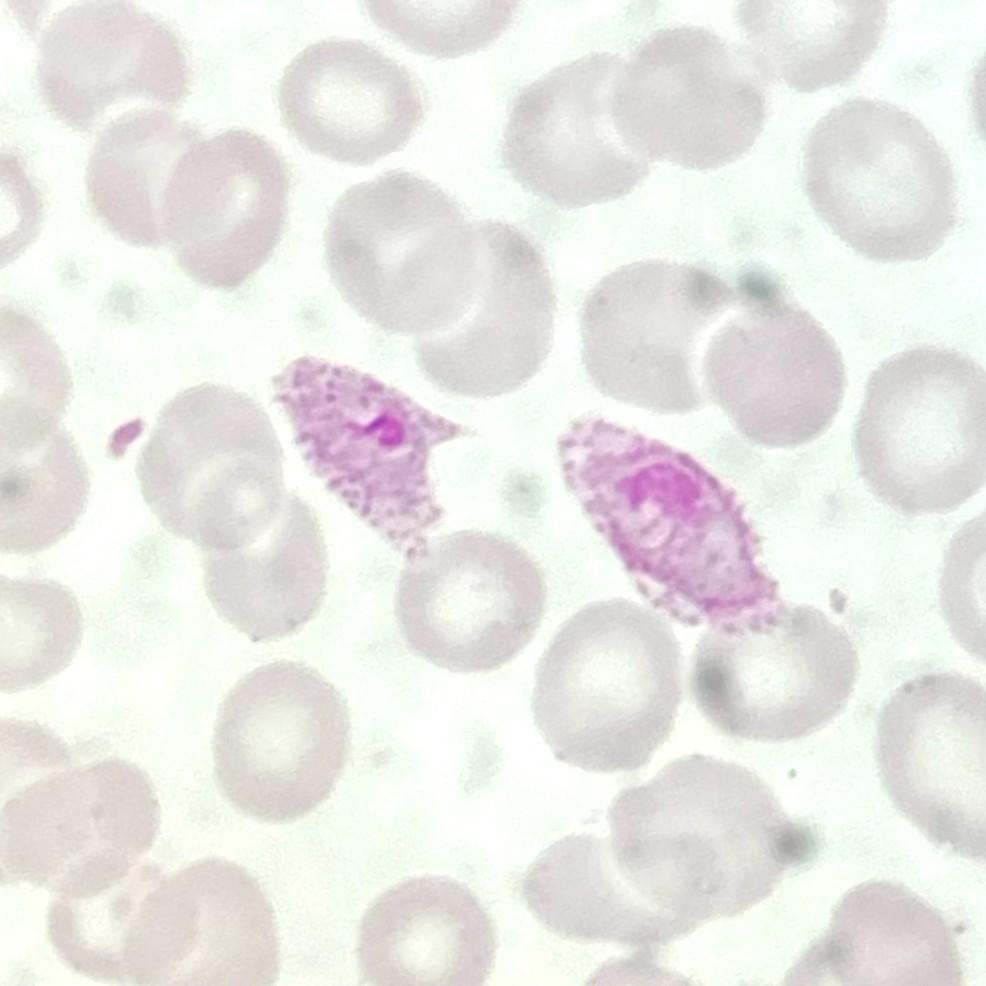Infected: (554, 414, 788, 637), (266, 354, 468, 557)
Uninfected: (584, 254, 756, 416), (402, 222, 558, 398), (606, 764, 788, 913), (532, 598, 686, 769), (322, 176, 481, 339), (134, 382, 287, 550), (808, 94, 956, 264), (688, 608, 867, 744), (698, 292, 849, 448), (524, 830, 705, 958), (850, 348, 986, 517), (210, 660, 350, 824), (392, 526, 546, 675), (500, 54, 650, 206), (620, 26, 766, 171), (122, 854, 281, 986), (162, 126, 289, 291), (86, 104, 225, 246), (876, 676, 986, 854), (202, 488, 327, 641), (280, 38, 425, 165), (42, 852, 190, 976), (42, 0, 188, 122), (360, 874, 497, 986), (0, 398, 89, 555)
